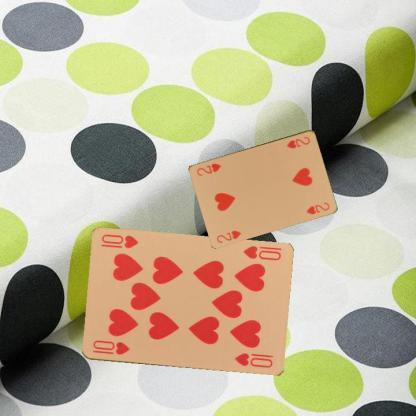10h: (240, 244, 282, 262), (90, 338, 130, 356)
2h: (284, 134, 312, 150), (214, 228, 242, 244)
